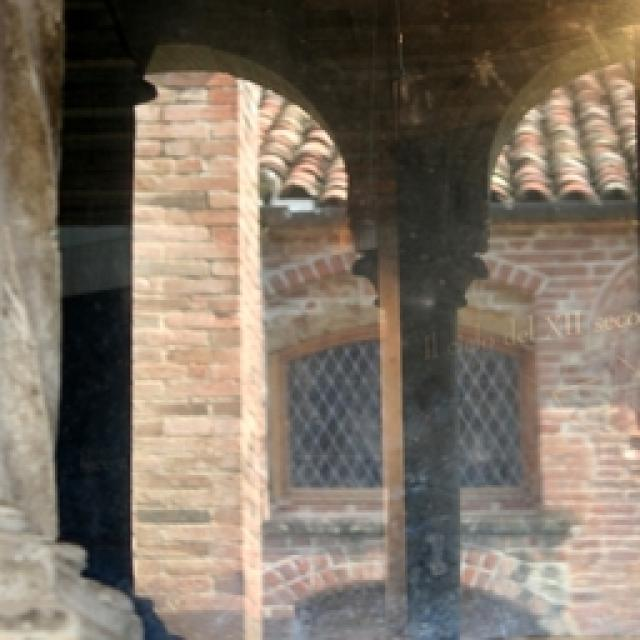Abbey: (112, 35, 616, 593)
